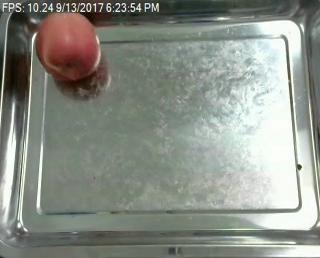apple: (35, 12, 100, 81)
